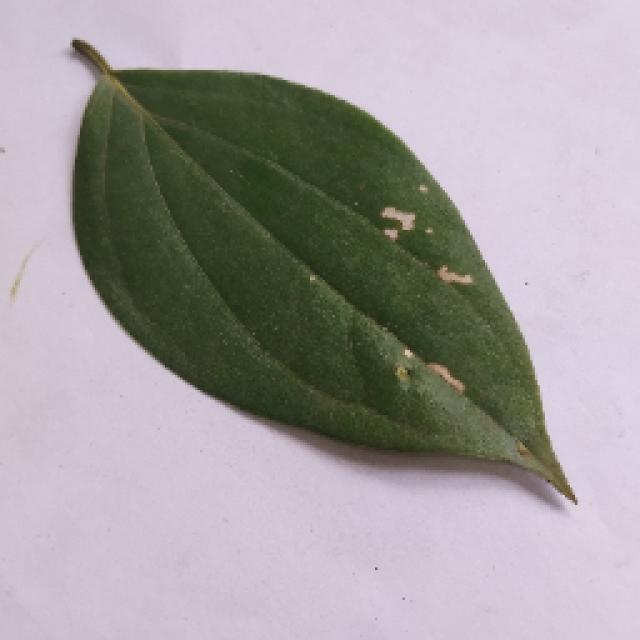pollu-disease: (62, 40, 572, 508)
